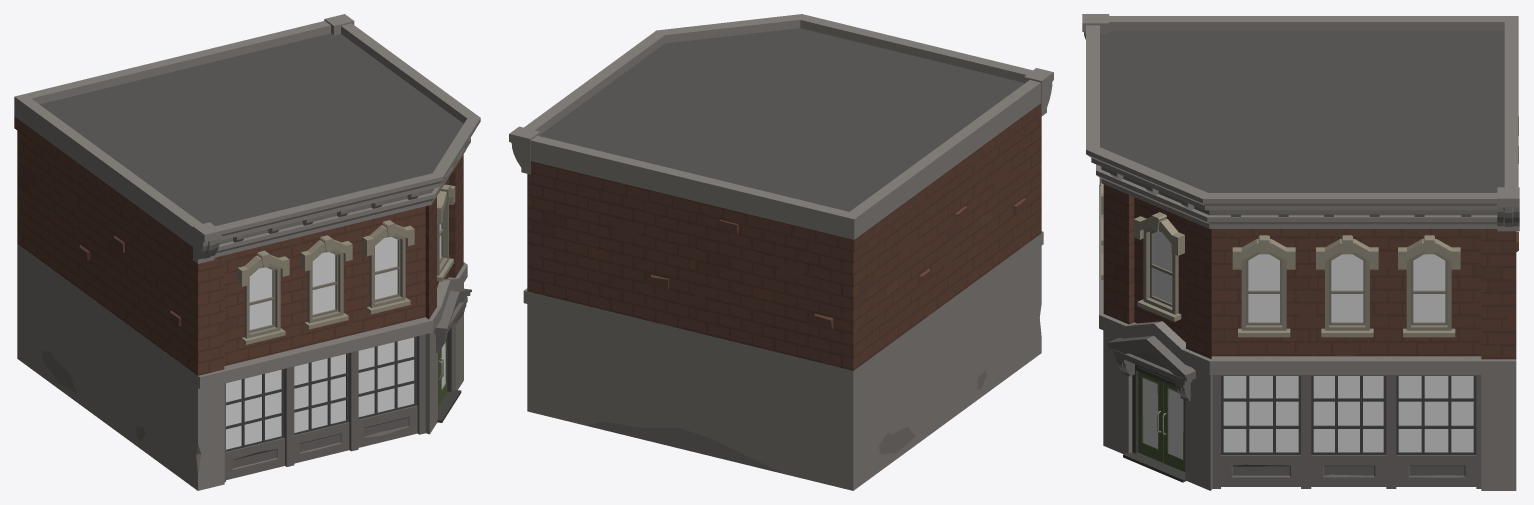
The model's file is SM_Bldg_City_Generic_04.fbx.
The picture shows the model from 3 angles, left to right: view 1: azimuth 30°, elevation 25°; view 2: azimuth 150°, elevation 25°; view 3: azimuth 270°, elevation 25°; orthographic projection. The views are drawn at different scales.
Parts seen in each view (by area): view 1: SM_Bldg_City_Generic_04, SM_Bldg_City_Generic_04_Glass; view 2: SM_Bldg_City_Generic_04; view 3: SM_Bldg_City_Generic_04, SM_Bldg_City_Generic_04_Glass.
Boxes of the visible parts, <box> form: SM_Bldg_City_Generic_04: <box>14,14,480,490</box>; SM_Bldg_City_Generic_04_Glass: <box>226,224,441,449</box>; SM_Bldg_City_Generic_04: <box>509,14,1053,490</box>; SM_Bldg_City_Generic_04: <box>1082,14,1519,490</box>; SM_Bldg_City_Generic_04_Glass: <box>1153,231,1473,452</box>.
Size of the model in its own units: 874 by 664 by 874.
